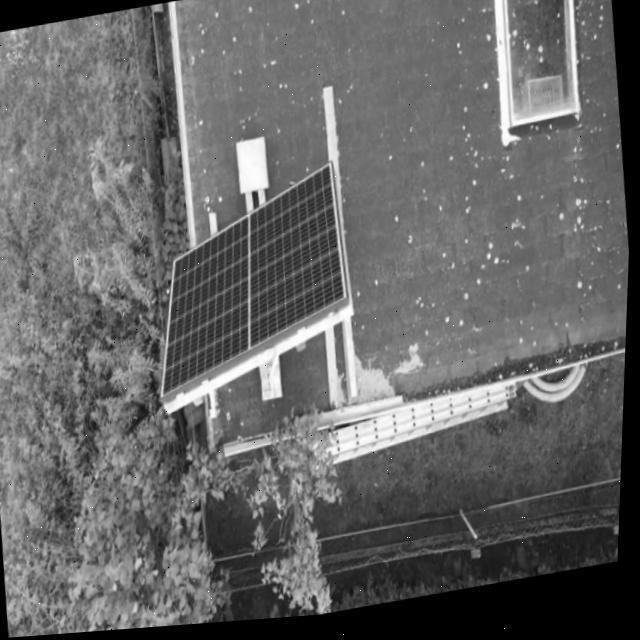Normal Solar Panel: (148, 168, 360, 399)
